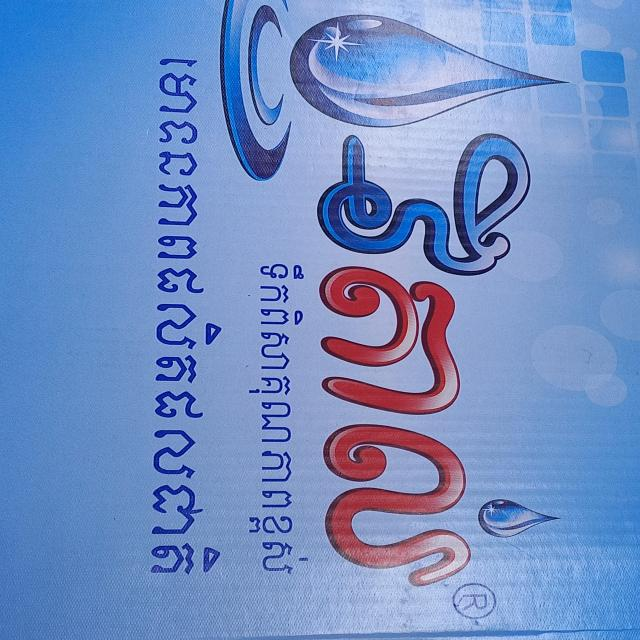Yolov11_80vkh: (316, 128, 575, 597), (131, 46, 227, 586), (240, 254, 313, 590)
